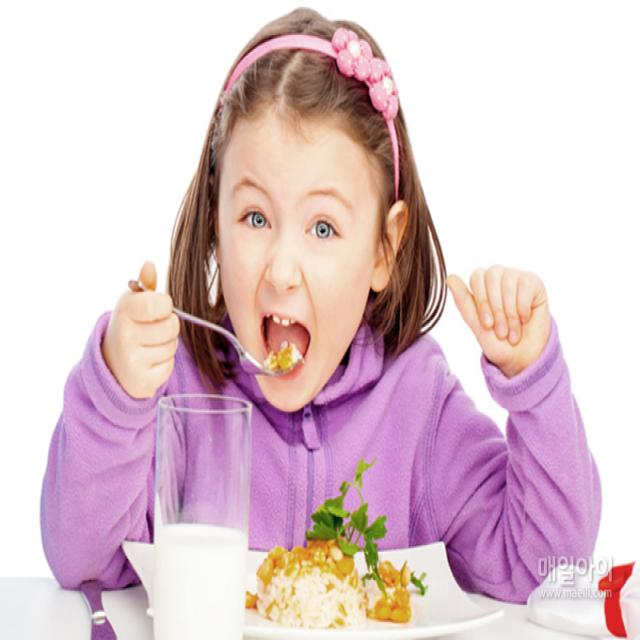eating-person: (32, 15, 620, 640)
